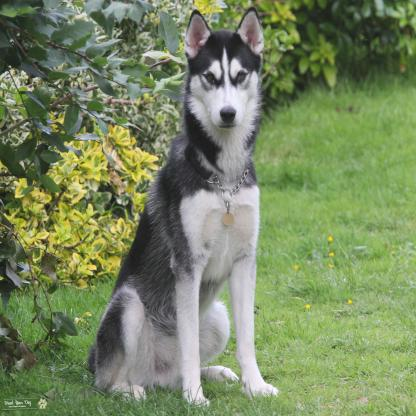dog: (86, 9, 279, 404)
